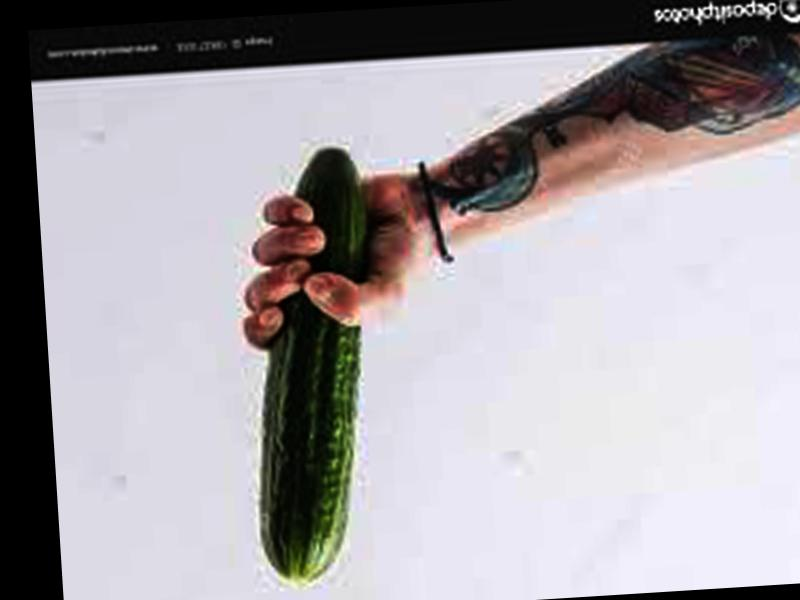Cucumber: (236, 150, 388, 588)
